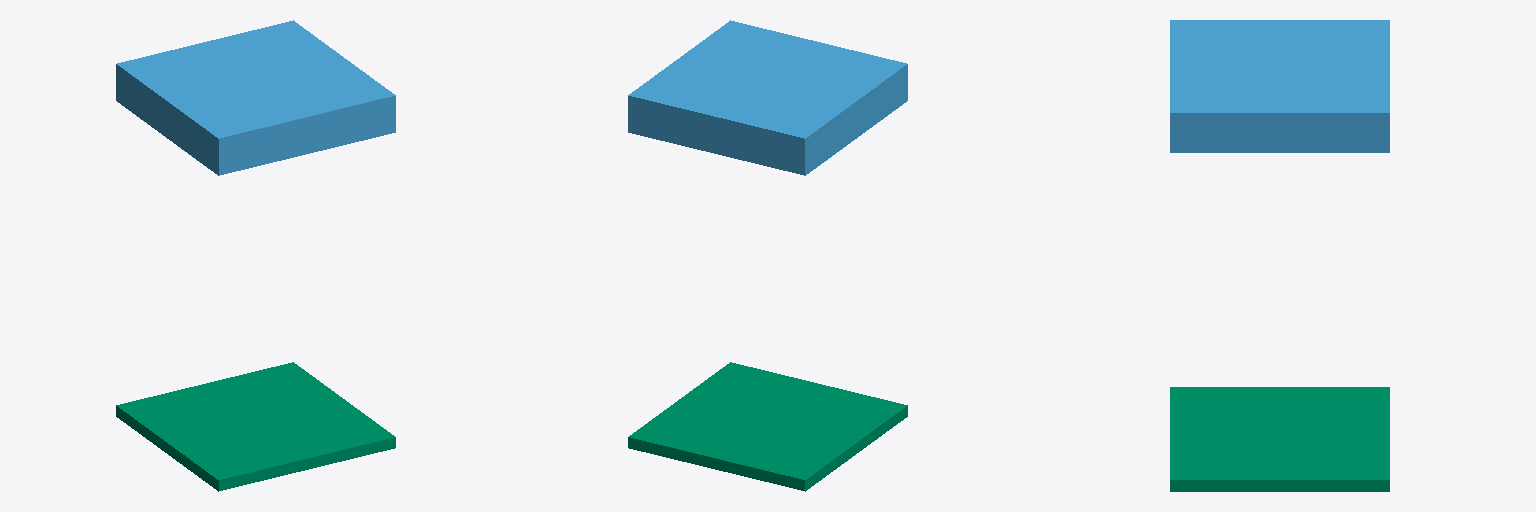
URDF robot description (hydraulic_press):
<?xml version="1.0"?>
<robot name="hydraulic_press">
    <link name="world">
    </link>

    <joint name="world_to_body" type="fixed">
        <parent link="world"/>
        <child link="body"/>
        <origin xyz="0 0 0.0"/>
    </joint>

    <link name="body">
        <visual> 
            <geometry>
                <box size="0.5 0.5 0.1"/>
            </geometry>
            <origin xyz="0.0 0.0 1.0"/>
        </visual>
        <collision>
            <geometry> 
                <box size="0.5 0.5 0.1"/>
            </geometry>
            <origin xyz="0.0 0.0 1.0"/>
        </collision>
        <inertial> 
            <origin xyz="0.0, 0.0, 1.0"/>
            <mass value="0.2"/>
            <inertia ixx="0.167" ixy="0" ixz="0" iyy="0.0" iyz="0.167" izz="0.167"/>
        </inertial>
    </link>

    <joint name="body_to_base" type="prismatic">
        <parent link="body"/>
        <child link="base"/>
        <origin xyz="0 0 0.0"/>
        <axis xyz="0.0 0.0 -1.0"/>
        <limit lower="-0.2" upper="0.2" effort="1000.0" velocity="1"/>
    </joint>

    <link name="base">
        <visual> 
            <geometry>
                <box size="0.5 0.5 0.03"/>
            </geometry>
            <origin xyz="0.0 0.0 0.115"/>
        </visual>
        <collision>
            <geometry> 
                <box size="0.5 0.5 0.03"/>
            </geometry>
            <origin xyz="0.0 0.0 0.115"/>
        </collision>
        <inertial> 
            <origin xyz="0.0, 0.0, 1.0"/>
            <mass value="2.7"/>
            <inertia ixx="0.0" ixy="0" ixz="0" iyy="0.0" iyz="0.0" izz="0.0"/>
        </inertial>
    </link>

</robot>

--- Facts derived from the render (not from the file) ---
Views: 3 orthographic renders of the robot side by side, from view 1: azimuth 30°, elevation 25°; view 2: azimuth 150°, elevation 25°; view 3: azimuth 270°, elevation 25°.
Robot: hydraulic_press — 3 links, 2 joints (1 prismatic, 1 fixed); root link world; default pose: every joint at zero.
Visible links, largest first — view 1: body, base; view 2: body, base; view 3: body, base.
Boxes of the visible links, <box> form: body: <box>116,20,395,175</box>; base: <box>116,362,395,491</box>; body: <box>628,20,907,175</box>; base: <box>628,362,907,491</box>; body: <box>1170,20,1389,152</box>; base: <box>1170,387,1389,491</box>.
Size in the robot's own frame: 0.5 by 0.5 by 0.95 metres.
Geometry: primitives only (box / cylinder / sphere), no mesh files.
